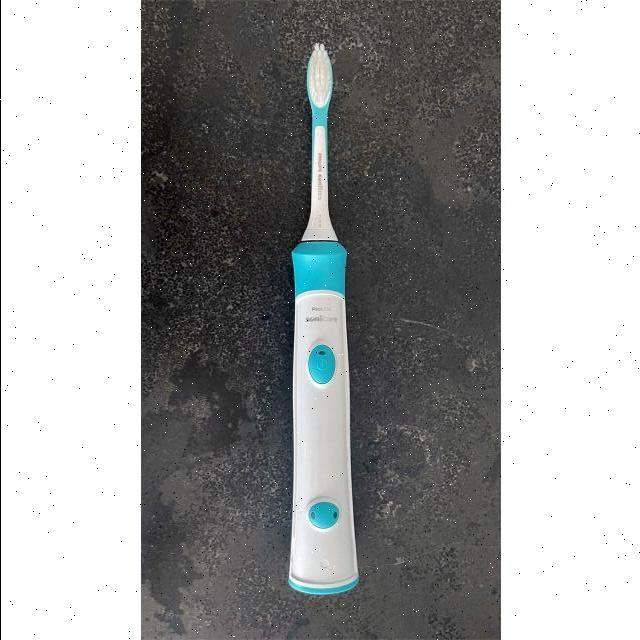toothbrush: (286, 22, 352, 264)
